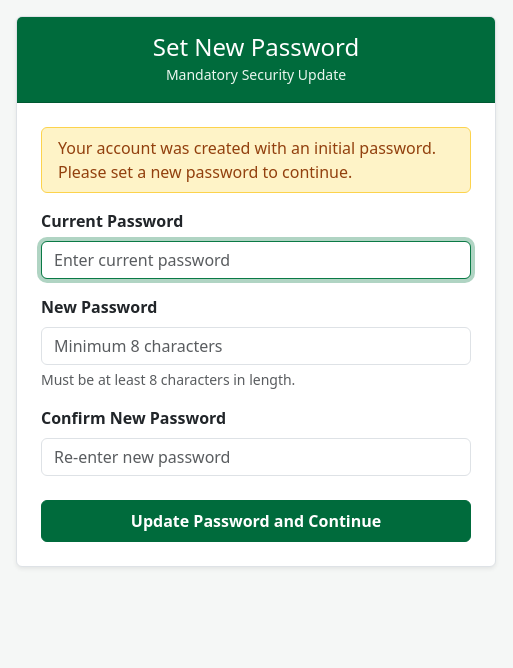
Scenario: UI-PASS-01: Change Password Component › prevents changing password to the same password
The width and height of the screenshot is (513, 668).
Type "Password123!" into the password field labelled "Current Password". click: (256, 260)
box: [41,241,471,279]
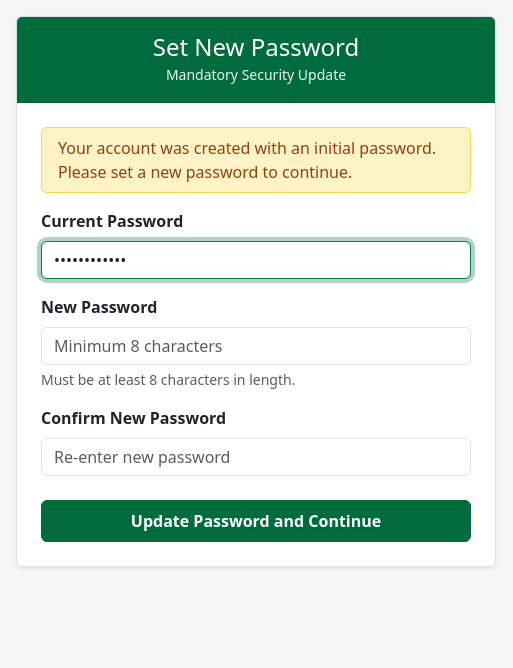
Type "Password123!" into the password field labelled "New Password". click: (256, 346)
box: [41,327,471,365]
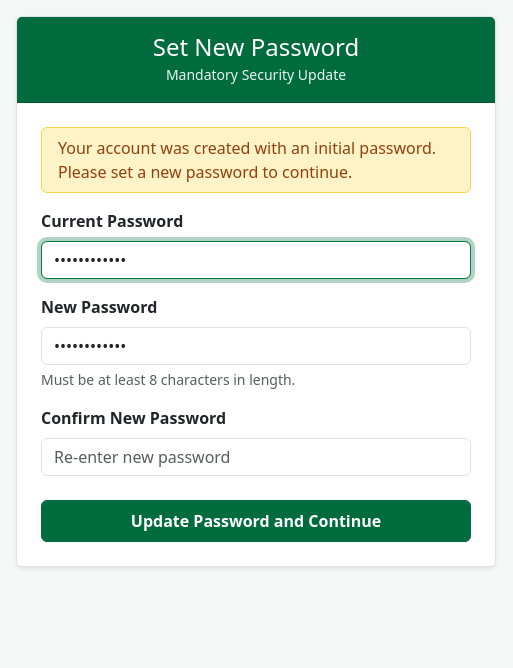
Type "Password123!" into the password field labelled "Confirm New Password". click: (256, 457)
box: [41,438,471,476]
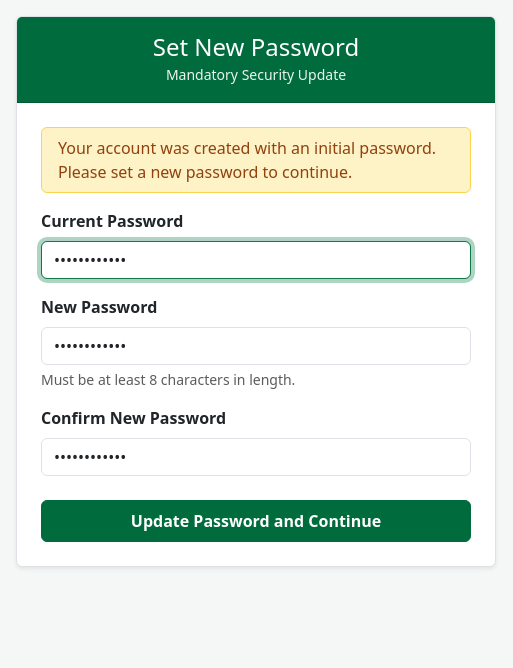
Click the button "Update Password and Continue". click: click(256, 521)
box: [41,500,471,542]
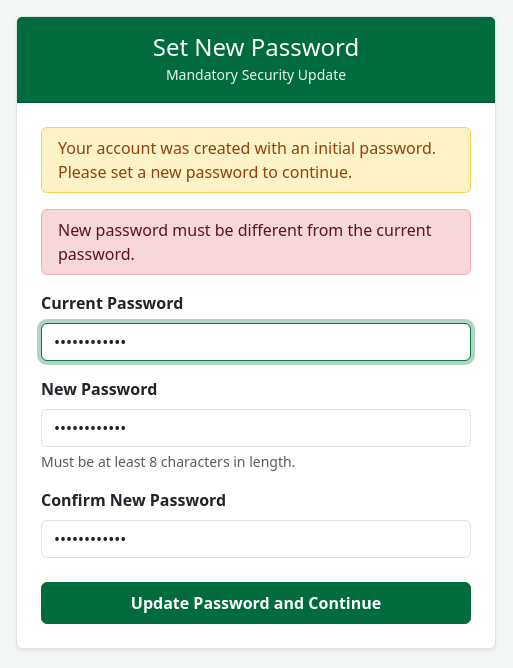
Now the text "New password must be different from the current password." is shown, box [41,209,471,275]
